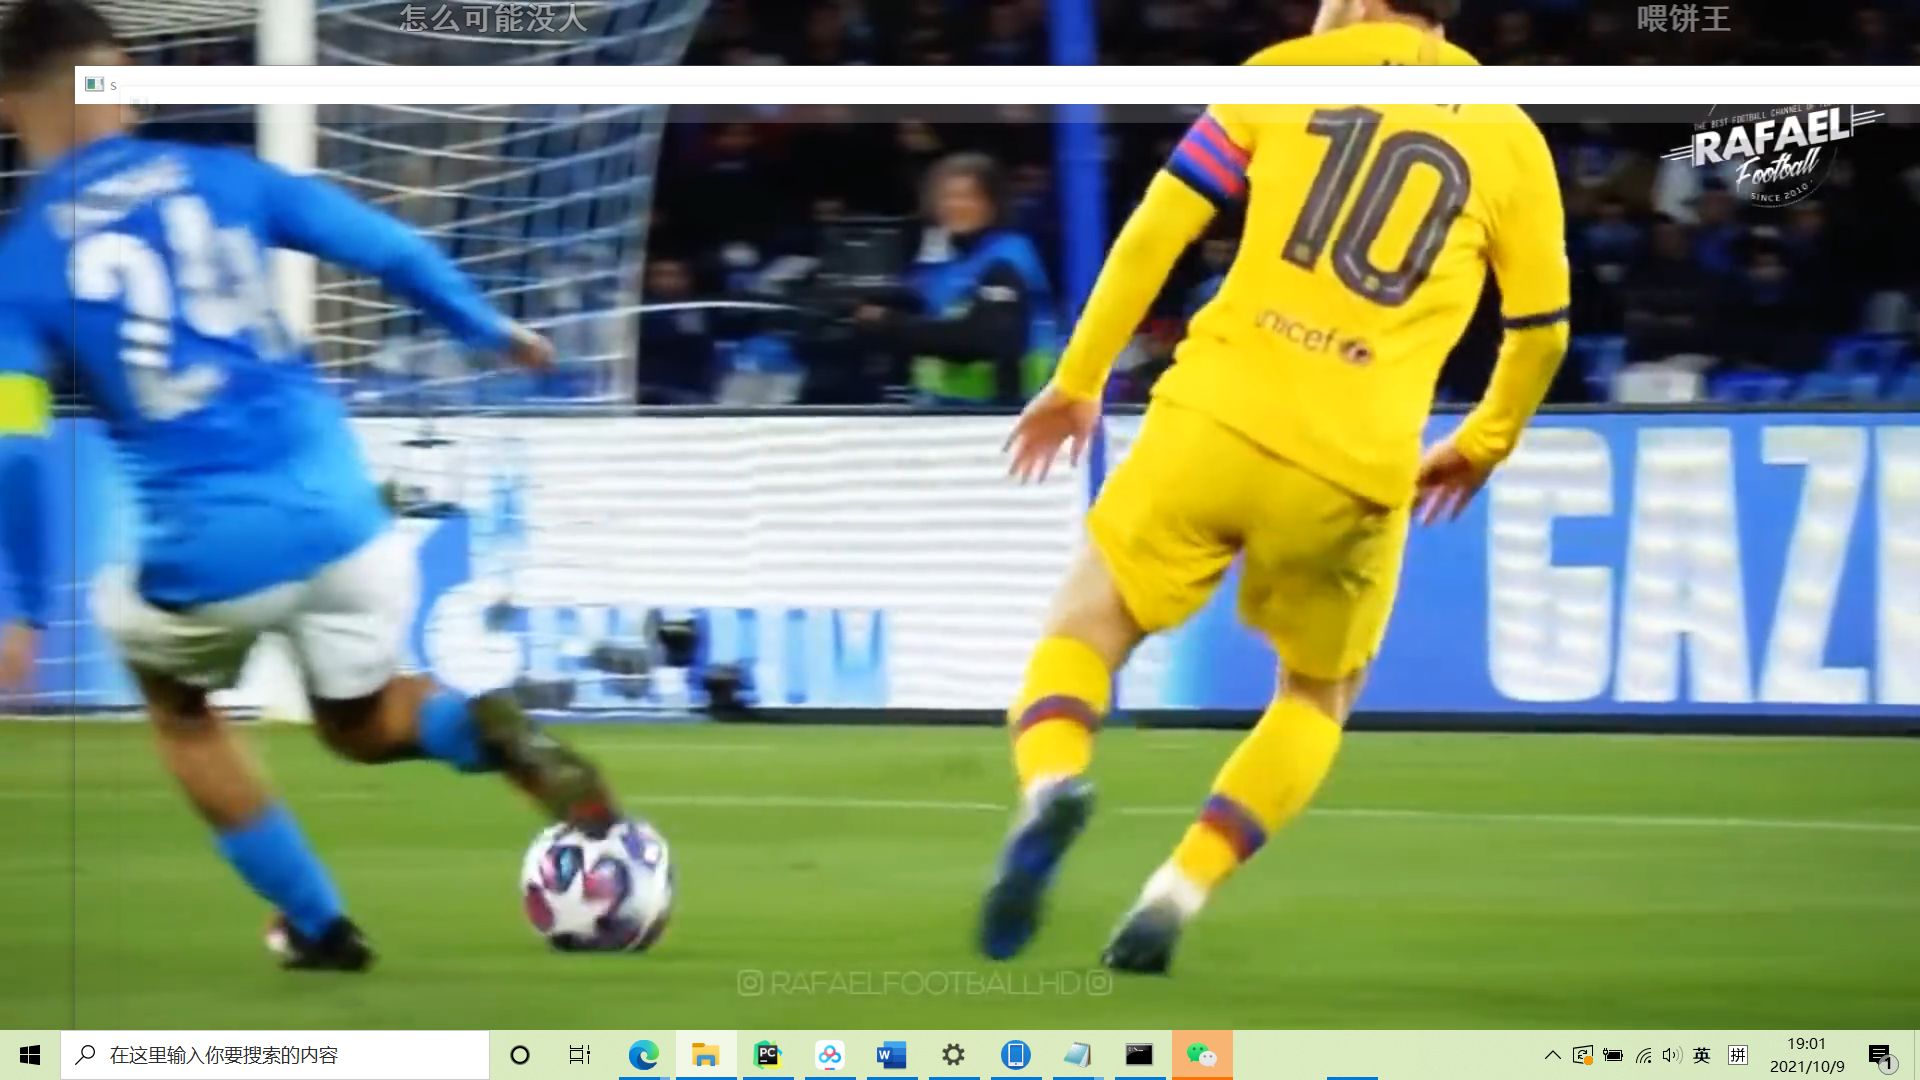ft: (506, 812, 683, 965)
